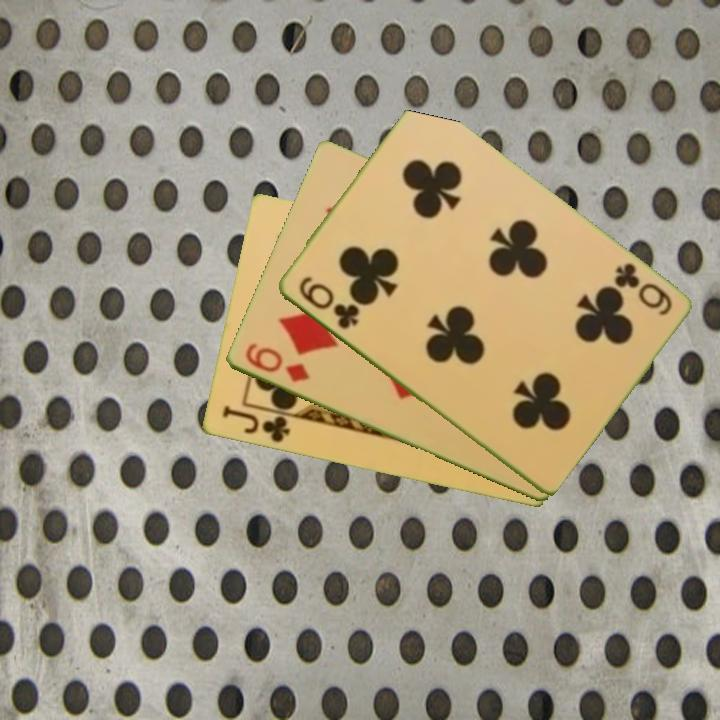6c: (294, 273, 362, 333), (609, 259, 675, 319)
6d: (241, 340, 313, 386)
Jc: (218, 402, 292, 446)
